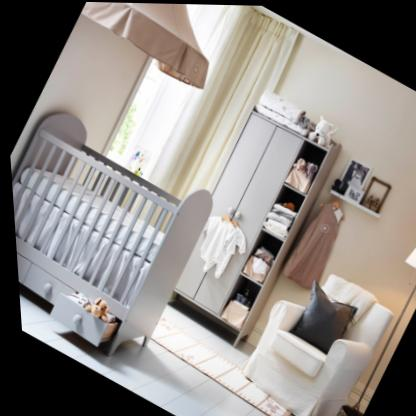Sofa: (220, 250, 401, 416)
